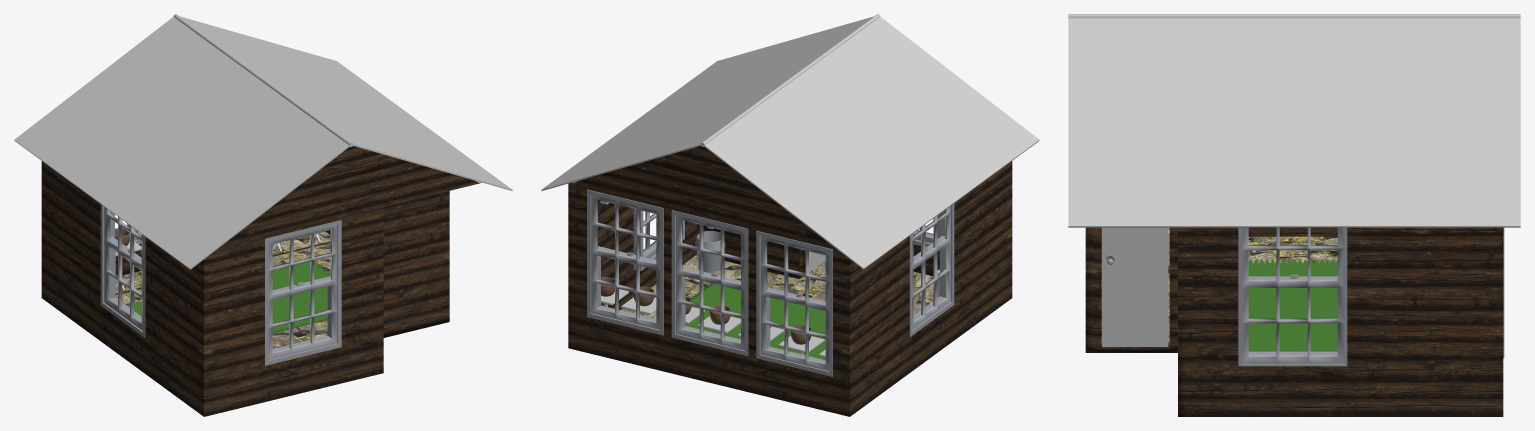
The model's file is AbbyandTyler.fbx.
3 renders of one model, left to right at view 1: azimuth 30°, elevation 25°; view 2: azimuth 150°, elevation 25°; view 3: azimuth 270°, elevation 25°, orthographic. The views are drawn at different scales.
Parts seen in each view (by area): view 1: roof, room6, Window5, Window6, pCube13; view 2: roof, room6, Window2, Window1, Window3, Window6, pCube13, Window4, Bucket; view 3: roof, room6, pCube12, Window4, pCube13.
Boxes of the visible parts, left/top/right/bottom form: roof: left=14, top=14, right=512, bottom=269; room6: left=41, top=161, right=449, bottom=416; Window5: left=265, top=220, right=341, bottom=365; Window6: left=100, top=204, right=145, bottom=337; pCube13: left=127, top=262, right=330, bottom=333; roof: left=541, top=14, right=1039, bottom=269; room6: left=568, top=161, right=1012, bottom=416; Window2: left=671, top=210, right=748, bottom=355; Window1: left=756, top=231, right=832, bottom=376; Window3: left=587, top=189, right=663, bottom=335; Window6: left=909, top=203, right=954, bottom=336; pCube13: left=685, top=283, right=825, bottom=359; Window4: left=633, top=209, right=684, bottom=271; Bucket: left=695, top=231, right=725, bottom=272; roof: left=1068, top=14, right=1520, bottom=227; room6: left=1085, top=227, right=1503, bottom=416; pCube12: left=1102, top=227, right=1168, bottom=346; Window4: left=1238, top=227, right=1347, bottom=366; pCube13: left=1248, top=259, right=1337, bottom=351.
Bounding box in the file's own units: 12.73 × 9.23 × 12.03.
